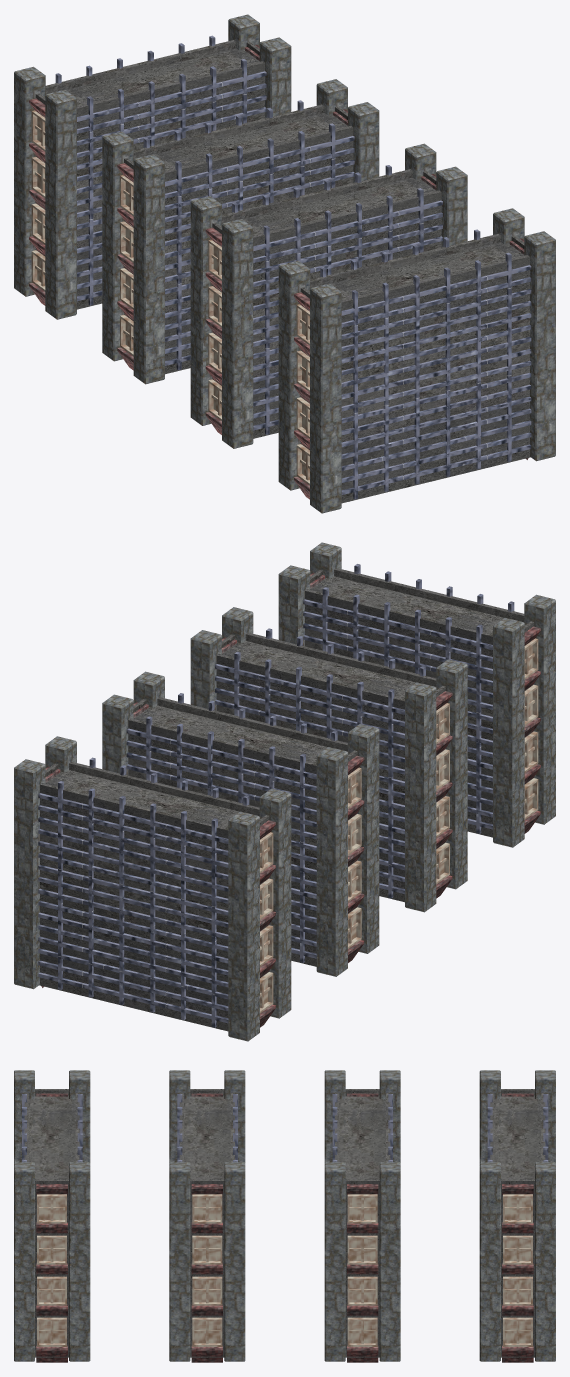
Rendered from Brutalist_Apartment_3.fbx.
The picture shows the model from 3 angles, top to bottom: view 1: azimuth 30°, elevation 25°; view 2: azimuth 150°, elevation 25°; view 3: azimuth 270°, elevation 25°; orthographic projection. The views are drawn at different scales.
Visible parts, largest first — view 1: polySurface519; view 2: polySurface519; view 3: polySurface519.
Boxes of the visible parts, bbox=[...] form: polySurface519: bbox=[14, 14, 555, 513]; polySurface519: bbox=[14, 542, 555, 1041]; polySurface519: bbox=[14, 1070, 555, 1362].
Bounding box in the file's own units: 1494 × 1374 × 3391.
